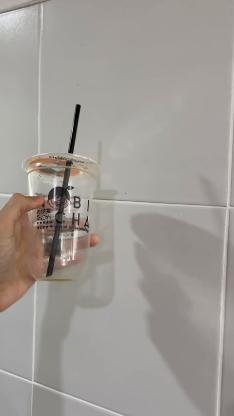Plastic Cup: (21, 150, 102, 282)
